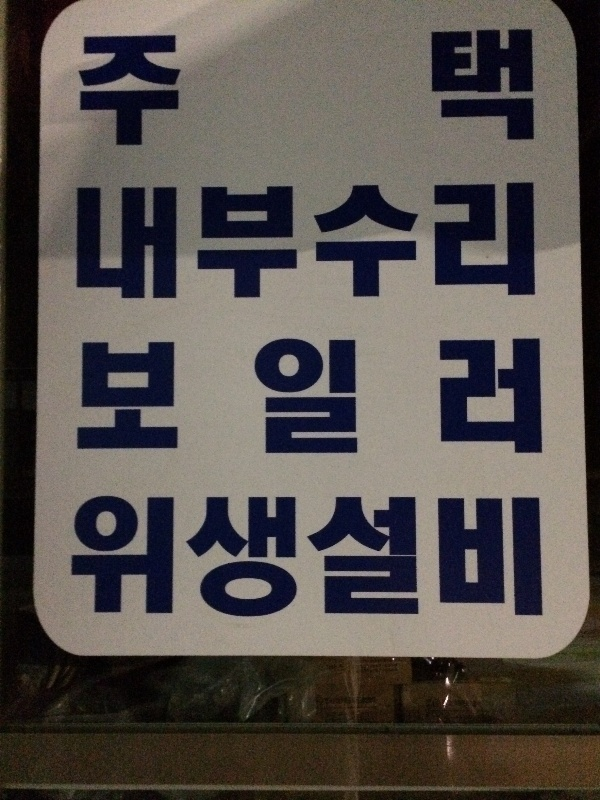text: (433, 25, 448, 625), (449, 25, 464, 625), (465, 25, 480, 625), (481, 25, 496, 625), (497, 25, 512, 625), (513, 25, 528, 625), (529, 25, 544, 625), (81, 27, 96, 622), (97, 27, 112, 622), (113, 27, 128, 622), (129, 27, 144, 622), (145, 27, 160, 622), (161, 27, 176, 622), (177, 27, 181, 622), (193, 486, 208, 622), (209, 486, 224, 622), (225, 486, 240, 622), (241, 486, 256, 622), (257, 486, 272, 622), (273, 486, 288, 622), (289, 486, 304, 622), (305, 486, 320, 622), (321, 486, 336, 622), (337, 486, 352, 622), (353, 486, 368, 622), (369, 486, 384, 622), (385, 486, 400, 622), (401, 486, 416, 622), (209, 175, 224, 305), (225, 175, 240, 305), (241, 175, 256, 305), (257, 175, 272, 305), (273, 175, 288, 305), (289, 175, 304, 305), (305, 175, 320, 305), (321, 175, 336, 305), (337, 175, 352, 305), (353, 175, 368, 305), (369, 175, 384, 305), (385, 175, 400, 305), (401, 175, 416, 305), (257, 334, 272, 464), (273, 334, 288, 464), (289, 334, 304, 464), (305, 334, 320, 464), (321, 334, 336, 464), (337, 334, 352, 464), (429, 25, 432, 625), (545, 25, 548, 625), (197, 175, 208, 305), (78, 27, 80, 622), (353, 334, 360, 464), (252, 334, 256, 464), (189, 486, 192, 622), (417, 486, 420, 622), (417, 175, 420, 305)
